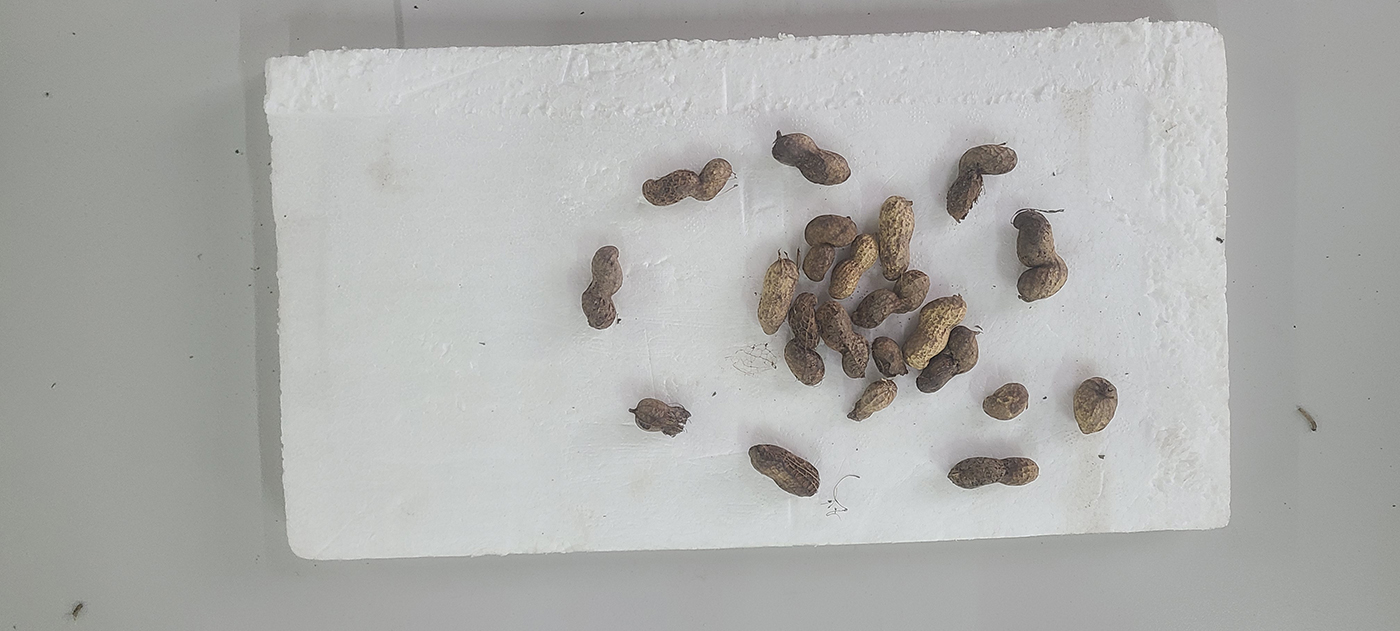l: (946, 144, 1019, 221), (1014, 211, 1069, 302), (852, 269, 930, 330), (902, 296, 968, 367), (642, 157, 733, 206), (917, 327, 979, 394), (773, 132, 851, 185), (749, 443, 821, 498), (817, 303, 869, 378), (783, 292, 824, 386), (581, 245, 622, 330), (827, 231, 878, 298), (877, 195, 915, 282), (757, 260, 797, 334), (949, 456, 1039, 488), (1074, 377, 1118, 434), (634, 398, 691, 437), (849, 380, 899, 421), (804, 214, 859, 247), (982, 382, 1028, 420), (873, 337, 910, 377), (803, 242, 836, 283)
